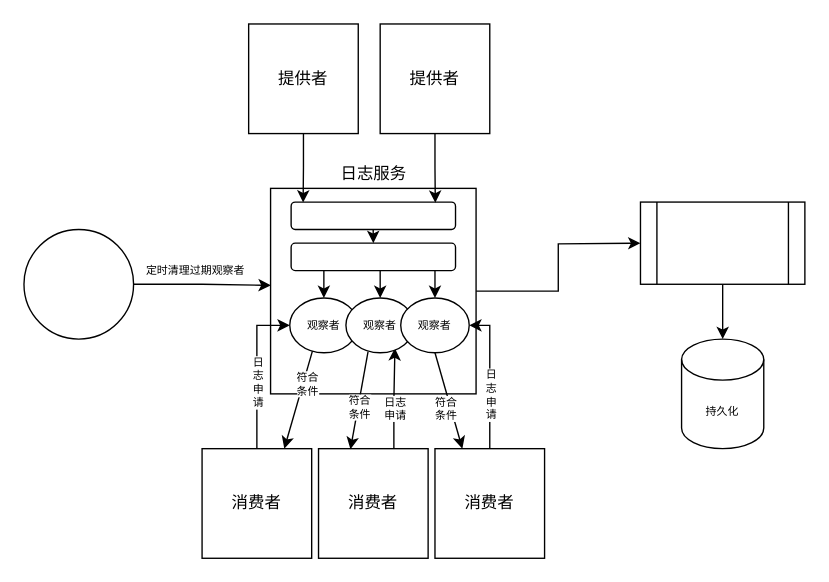
The diagram is 829 pixels wide and 582 high, and some of its shapes have lost their labels. The shapes that lost their labels are listed below. From the top down, each one's centre as x and y in pixels, then its label:
the point at 373,215: 双向阻塞队列
the point at 373,256: EventBus
the point at 722,242: MQ
the point at 78,283: 定时清理器
